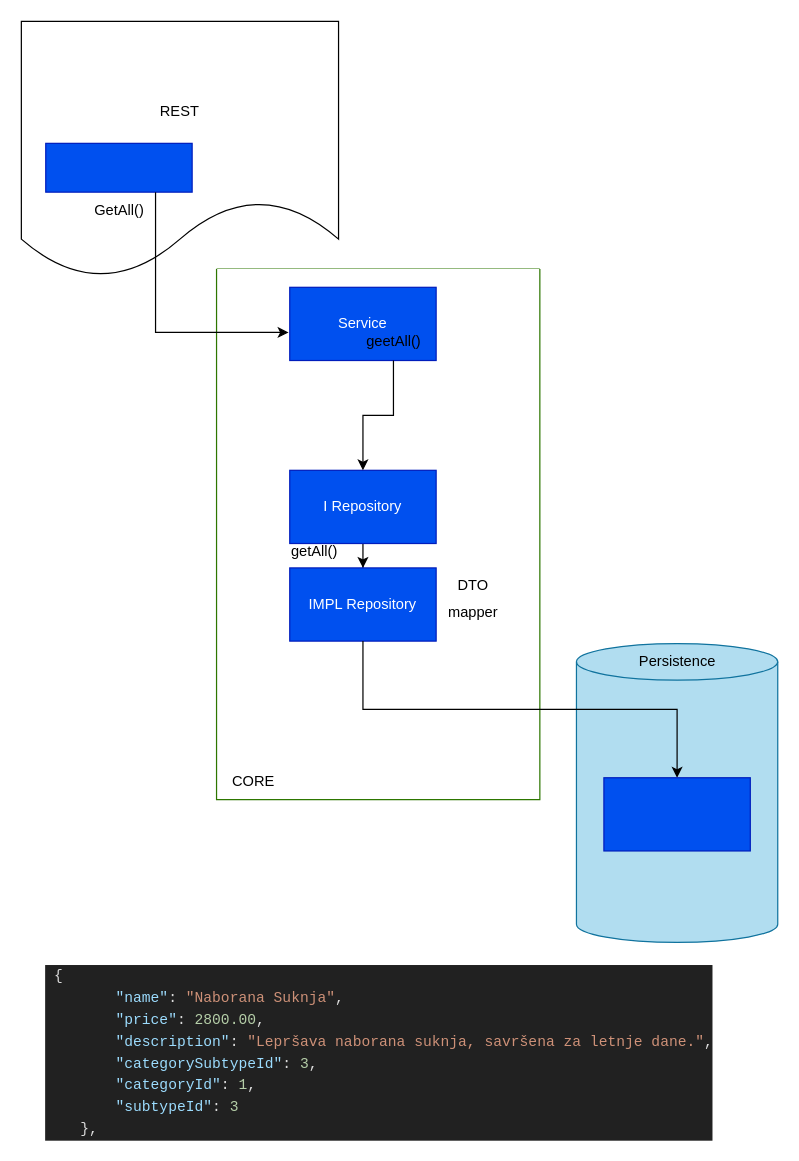
Image size: 799x1161. Some labels were removed from this diagram. Each missing label, with the centre of its shape:
"CONROLLER" belongs at [118,167].
"JPArepository" belongs at [676,814].
